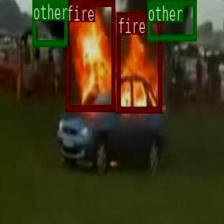fire: (65, 0, 114, 110), (116, 11, 162, 112)
